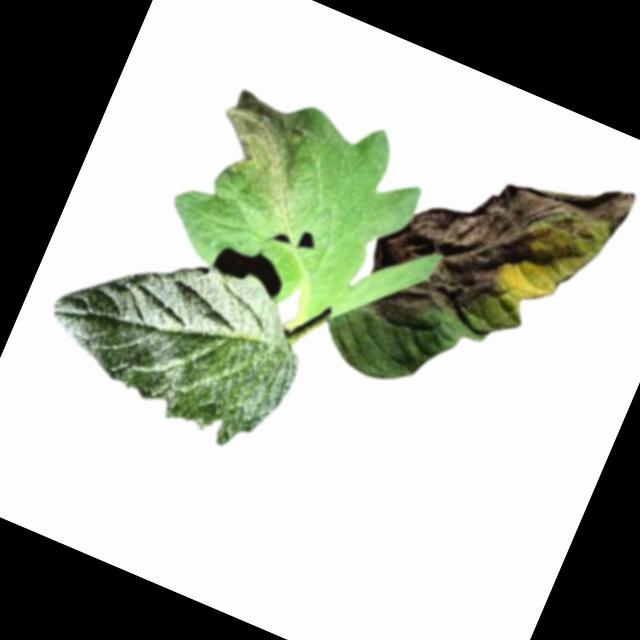Late_blight: (348, 106, 638, 393), (199, 81, 334, 212)
